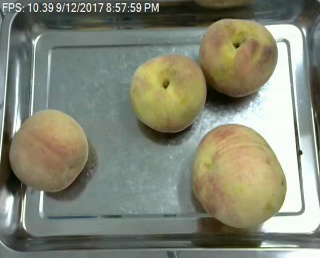Peach: (191, 122, 286, 232), (9, 108, 90, 193), (198, 18, 278, 98), (129, 54, 207, 133)
